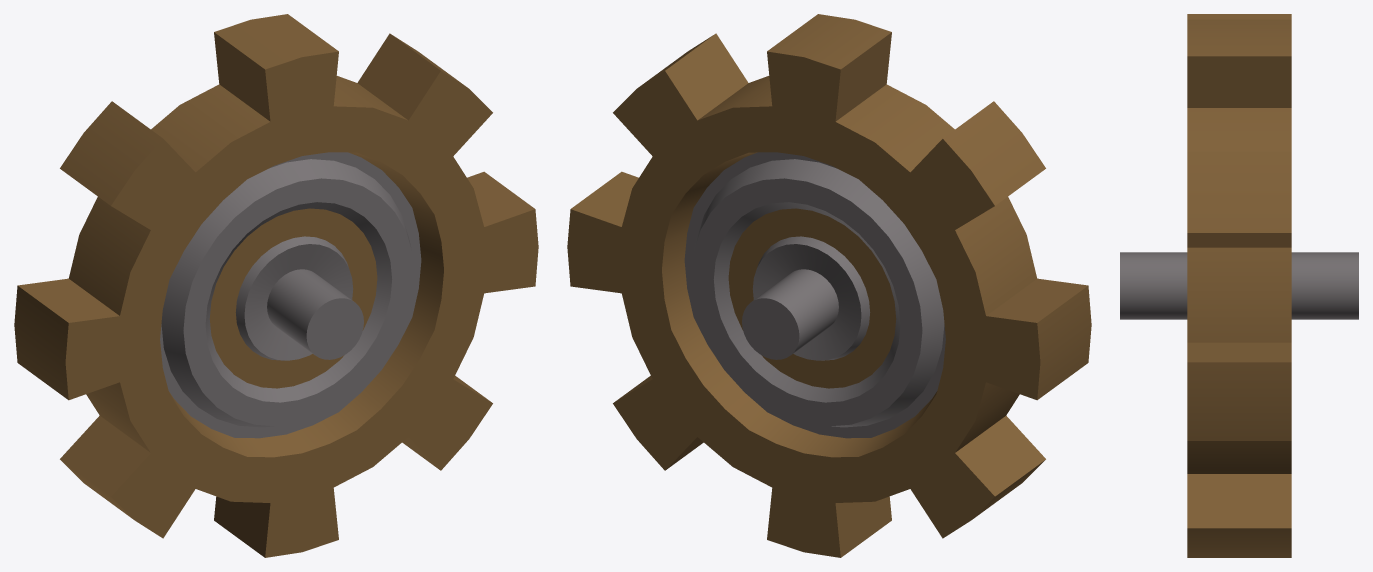
Rendered from cog_small_holder.fbx.
3 views of the same model, side by side, from view 1: azimuth 30°, elevation 25°; view 2: azimuth 150°, elevation 25°; view 3: azimuth 270°, elevation 25° (orthographic).
Parts seen in each view (by area): view 1: Cog_Small, Cog_Holder; view 2: Cog_Small, Cog_Holder; view 3: Cog_Small, Cog_Holder.
Boxes of the visible parts, left/top/right/bottom form: Cog_Small: left=14, top=14, right=538, bottom=557; Cog_Holder: left=267, top=269, right=363, bottom=359; Cog_Small: left=567, top=14, right=1091, bottom=557; Cog_Holder: left=742, top=269, right=838, bottom=359; Cog_Small: left=1187, top=14, right=1291, bottom=557; Cog_Holder: left=1120, top=252, right=1358, bottom=319.
Bounding box in the file's own units: 30.48 × 30.48 × 13.12.
